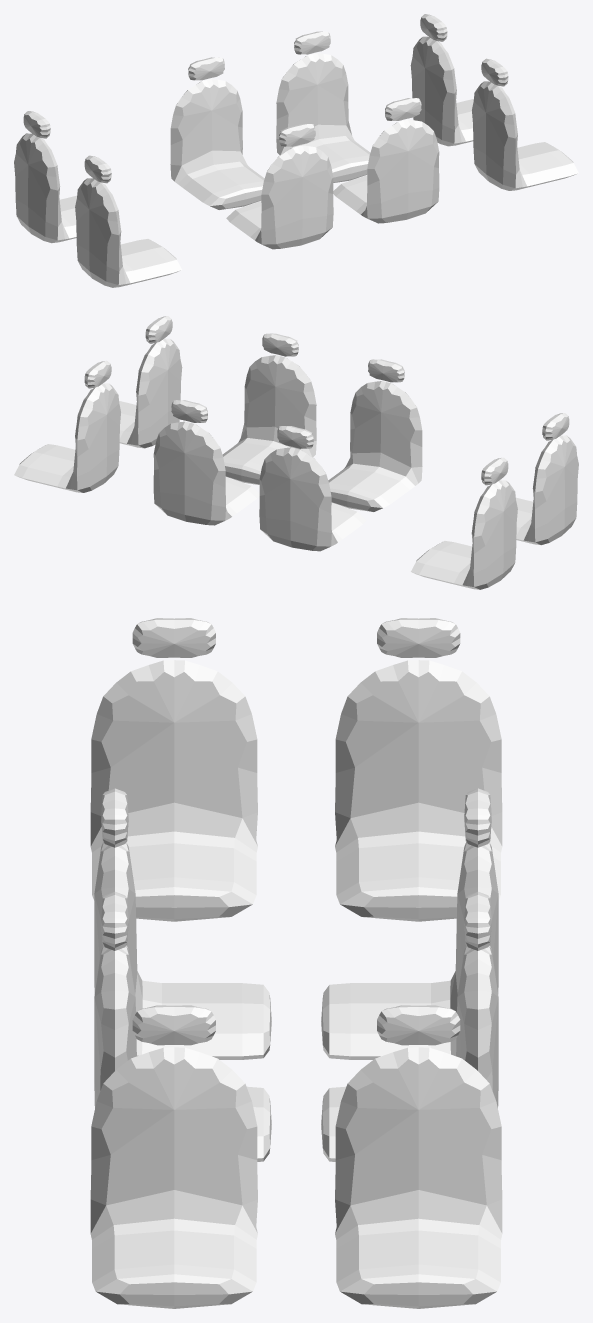
The model's file is Seats.glb.
The picture shows the model from 3 angles, top to bottom: view 1: azimuth 30°, elevation 25°; view 2: azimuth 150°, elevation 25°; view 3: azimuth 270°, elevation 25°; orthographic projection. The views are drawn at different scales.
Visible parts, largest first — view 1: Seat2.001; view 2: Seat2.001; view 3: Seat2.001.
Part boxes in pixels (box(x1,y1,x2,y2)): Seat2.001: box(14, 14, 578, 287); Seat2.001: box(14, 316, 578, 589); Seat2.001: box(90, 618, 502, 1308).
Size of the model in its own units: 0.1253 by 0.0303 by 0.0472.
Materials: 1 (1 with a texture image).
